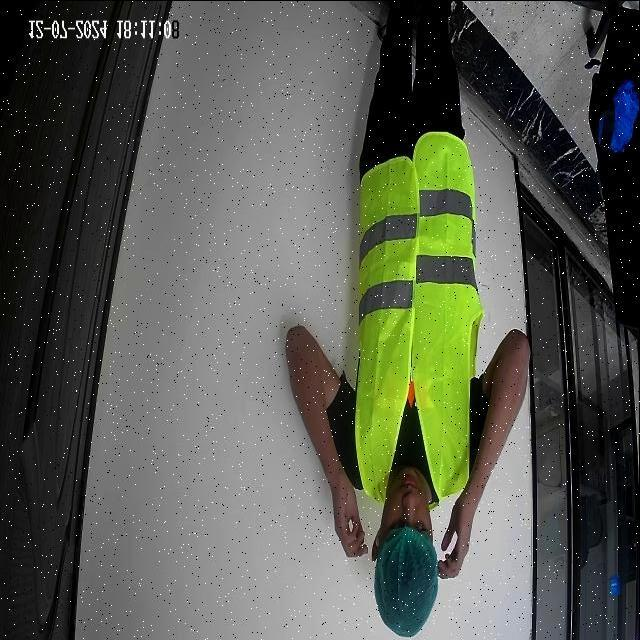gloves: (376, 534, 434, 632)
no_apron: (322, 456, 372, 568), (439, 507, 471, 582)
no_hairnet: (386, 467, 428, 522)
